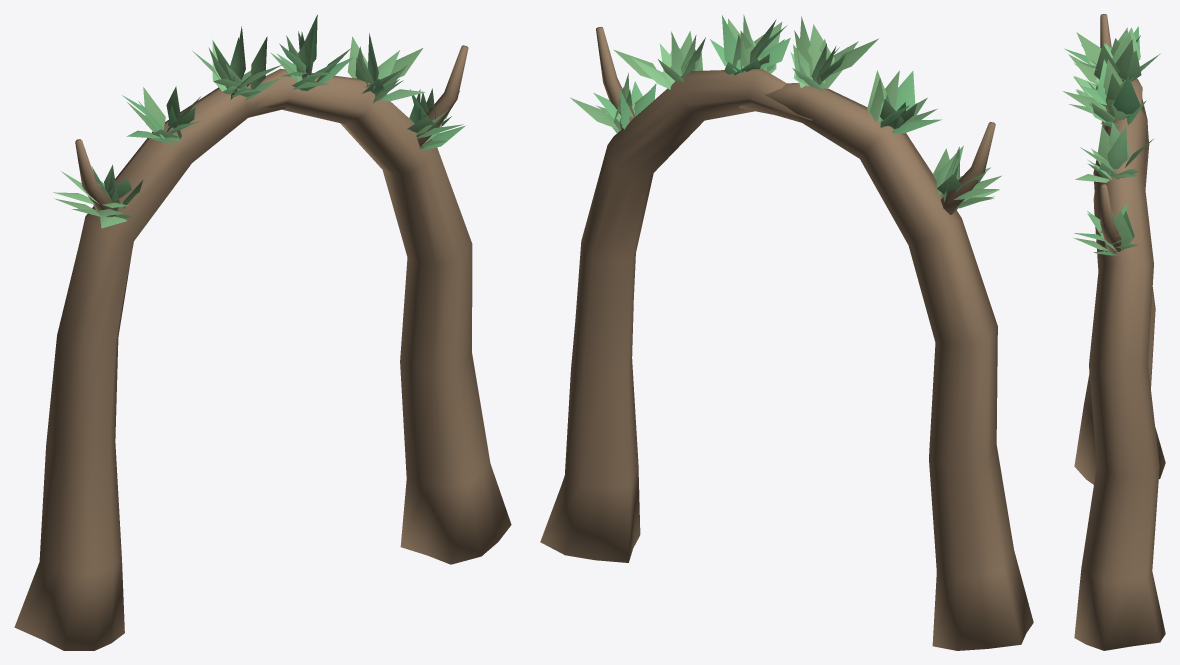
Rendered from arch_tree_doorway.glb.
3 renders of one model, left to right at view 1: azimuth 30°, elevation 25°; view 2: azimuth 150°, elevation 25°; view 3: azimuth 270°, elevation 25°, orthographic. The views are drawn at different scales.
Parts seen in each view (by area): view 1: LivingArchTrunk_L, LivingArchTrunk_R, ArchLeafSpray_2, ArchLeafSpray_4, ArchLeafSpray_3, ArchLeafSpray_1, ArchLeafSpray_0, ArchLeafSpray_5, ArchSideTwig_R, ArchSideTwig_L; view 2: LivingArchTrunk_L, LivingArchTrunk_R, ArchLeafSpray_2, ArchLeafSpray_3, ArchLeafSpray_1, ArchLeafSpray_4, ArchLeafSpray_5, ArchLeafSpray_0, ArchSideTwig_L, ArchSideTwig_R; view 3: LivingArchTrunk_R, LivingArchTrunk_L, ArchLeafSpray_3, ArchLeafSpray_2, ArchLeafSpray_4, ArchLeafSpray_5, ArchSideTwig_R, ArchLeafSpray_1, ArchSideTwig_L, ArchLeafSpray_0.
Boxes of the visible parts, x1=… form: LivingArchTrunk_L: x1=14, y1=83, x2=285, y2=650; LivingArchTrunk_R: x1=248, y1=68, x2=511, y2=564; ArchLeafSpray_2: x1=192, y1=26, x2=282, y2=99; ArchLeafSpray_4: x1=347, y1=33, x2=425, y2=102; ArchLeafSpray_3: x1=270, y1=14, x2=354, y2=91; ArchLeafSpray_1: x1=122, y1=86, x2=200, y2=146; ArchLeafSpray_0: x1=53, y1=162, x2=142, y2=228; ArchLeafSpray_5: x1=407, y1=88, x2=465, y2=150; ArchSideTwig_R: x1=416, y1=45, x2=468, y2=148; ArchSideTwig_L: x1=75, y1=139, x2=117, y2=216; LivingArchTrunk_L: x1=739, y1=83, x2=1033, y2=650; LivingArchTrunk_R: x1=540, y1=69, x2=812, y2=562; ArchLeafSpray_2: x1=790, y1=16, x2=878, y2=91; ArchLeafSpray_3: x1=710, y1=14, x2=790, y2=75; ArchLeafSpray_1: x1=867, y1=70, x2=941, y2=133; ArchLeafSpray_4: x1=613, y1=31, x2=705, y2=89; ArchLeafSpray_5: x1=570, y1=73, x2=656, y2=133; ArchLeafSpray_0: x1=933, y1=146, x2=1001, y2=208; ArchSideTwig_L: x1=940, y1=122, x2=995, y2=214; ArchSideTwig_R: x1=596, y1=27, x2=635, y2=129; LivingArchTrunk_R: x1=1074, y1=106, x2=1165, y2=650; LivingArchTrunk_L: x1=1074, y1=78, x2=1165, y2=484; ArchLeafSpray_3: x1=1063, y1=59, x2=1146, y2=127; ArchLeafSpray_2: x1=1068, y1=27, x2=1160, y2=86; ArchLeafSpray_4: x1=1075, y1=122, x2=1153, y2=182; ArchLeafSpray_5: x1=1074, y1=204, x2=1138, y2=255; ArchSideTwig_R: x1=1100, y1=184, x2=1121, y2=256; ArchLeafSpray_1: x1=1064, y1=26, x2=1140, y2=64; ArchSideTwig_L: x1=1100, y1=14, x2=1111, y2=48; ArchLeafSpray_0: x1=1073, y1=76, x2=1099, y2=102.
Bounding box in the file's own units: 2.85 × 3.2 × 0.5869.
